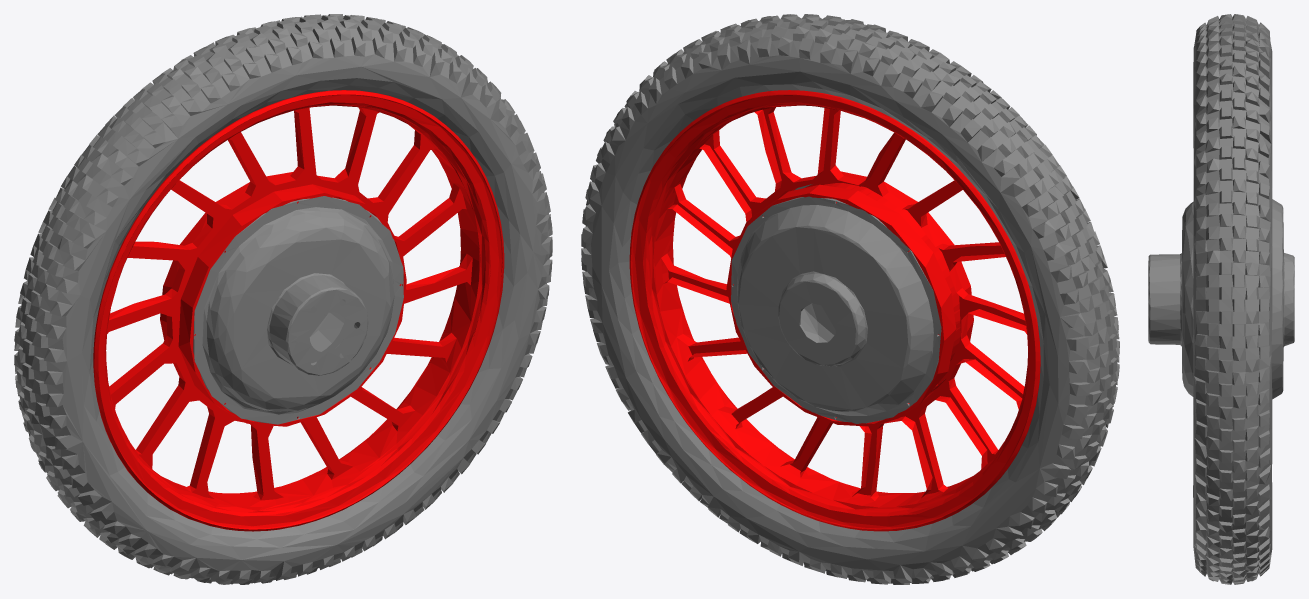
File: wheel_rear_right.dae
3 renders of one model, left to right at view 1: azimuth 30°, elevation 25°; view 2: azimuth 150°, elevation 25°; view 3: azimuth 270°, elevation 25°, orthographic. The views are drawn at different scales.
Visible parts, largest first — view 1: wheel_rear_right; view 2: wheel_rear_right; view 3: wheel_rear_right.
Boxes of the visible parts, box(x1,y1,x2,y2) form: wheel_rear_right: box(14, 14, 552, 584); wheel_rear_right: box(581, 14, 1119, 584); wheel_rear_right: box(1148, 14, 1294, 584).
Bounding box in the file's own units: 0.5073 × 0.13 × 0.5073.
